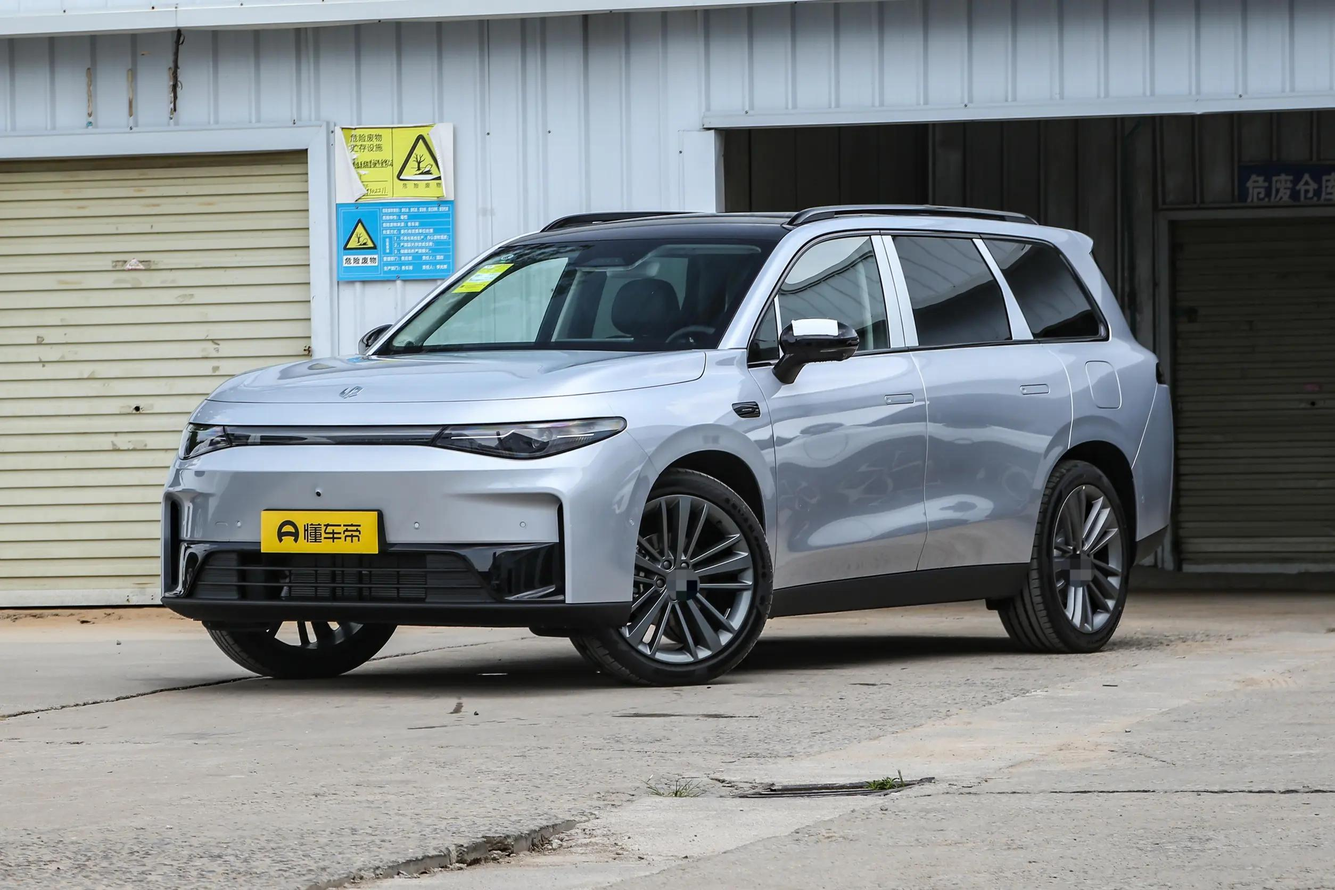LEAPMOTOR: (339, 386, 362, 399)
